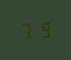nine: (35, 20, 50, 39)
seven: (19, 20, 34, 40)
